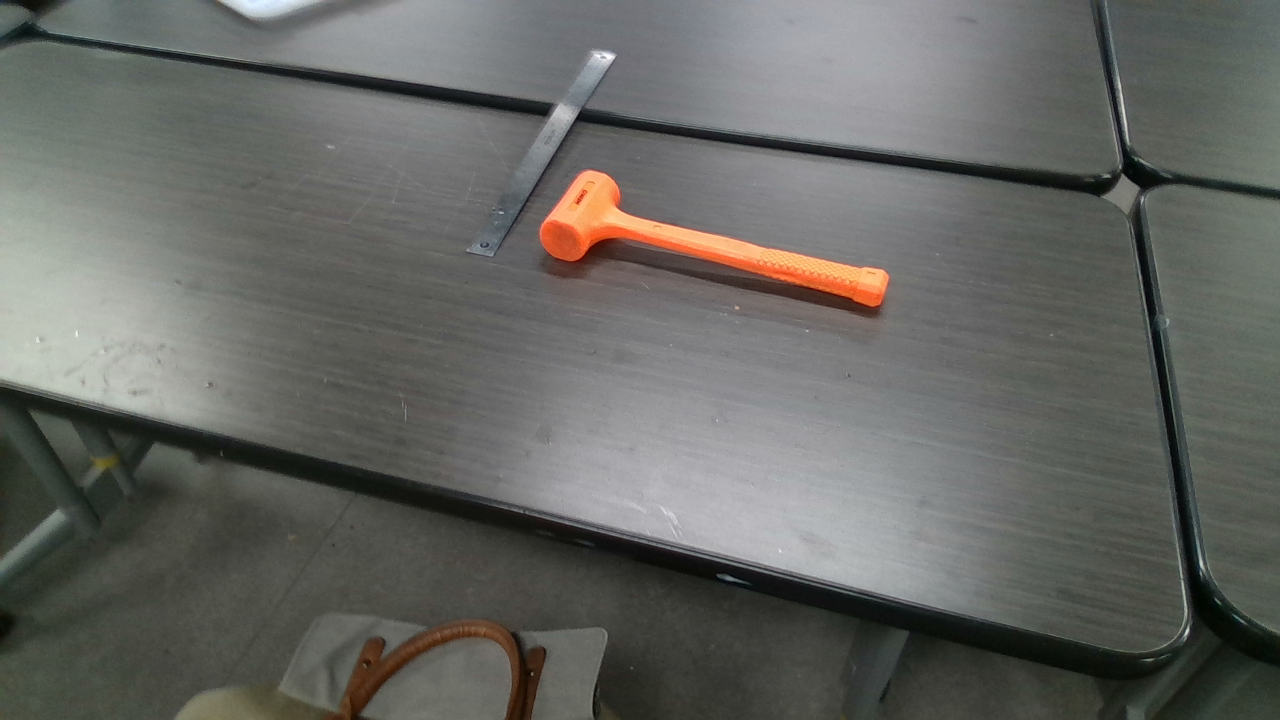Orange Hammer: (541, 171, 885, 304)
